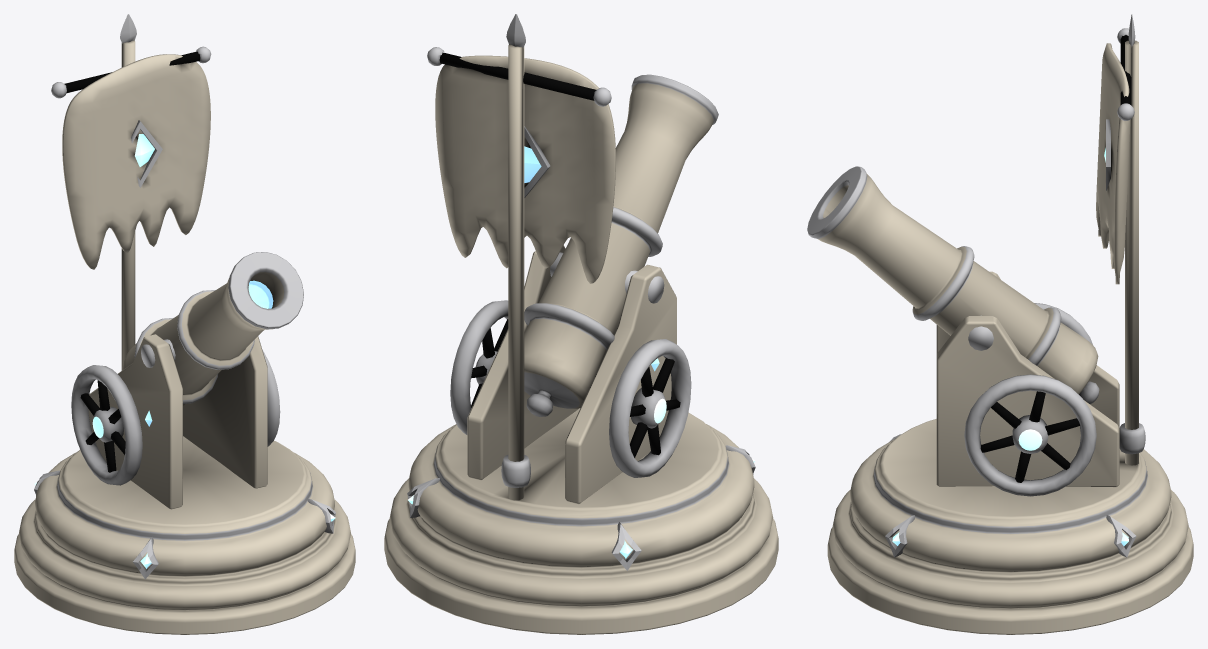
The model's file is banner.glb.
3 views of the same model, side by side, from view 1: azimuth 30°, elevation 25°; view 2: azimuth 150°, elevation 25°; view 3: azimuth 270°, elevation 25° (orthographic). The views are drawn at different scales.
Parts seen in each view (by area): view 1: banner; view 2: banner; view 3: banner.
Part boxes in pixels (x1,y1,x2,y2): banner: [14, 14, 355, 634]; banner: [384, 14, 778, 634]; banner: [807, 14, 1193, 634].
Size of the model in its own units: 0.74 by 1.22 by 0.7814.
